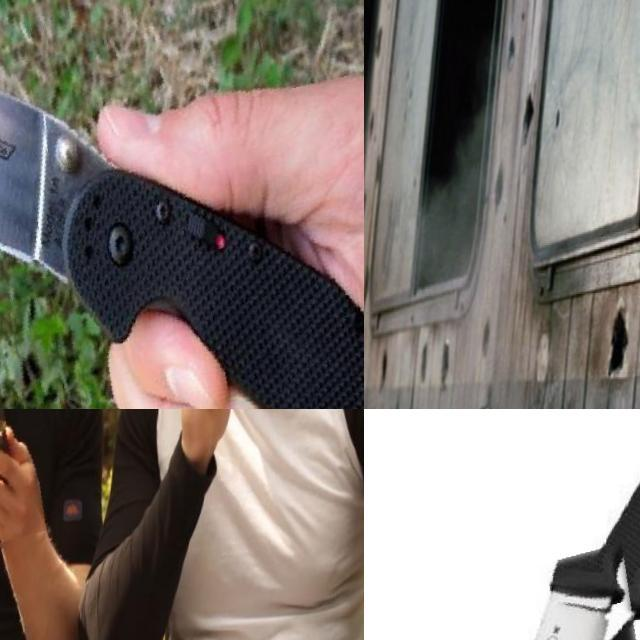-: (0, 0, 364, 409), (413, 554, 640, 640), (0, 409, 53, 548)
